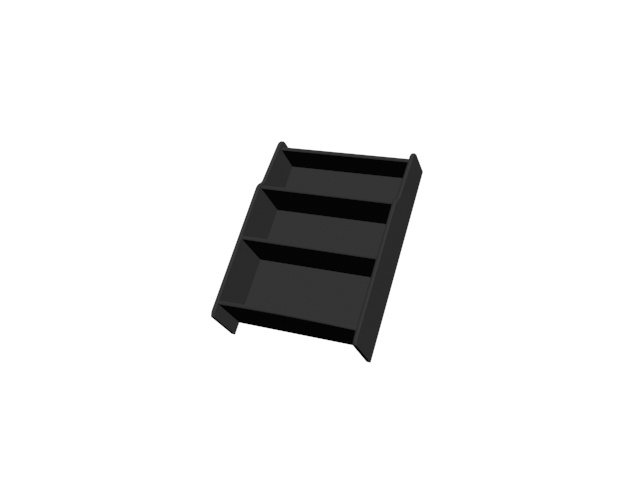bookcase: (209, 137, 424, 368)
